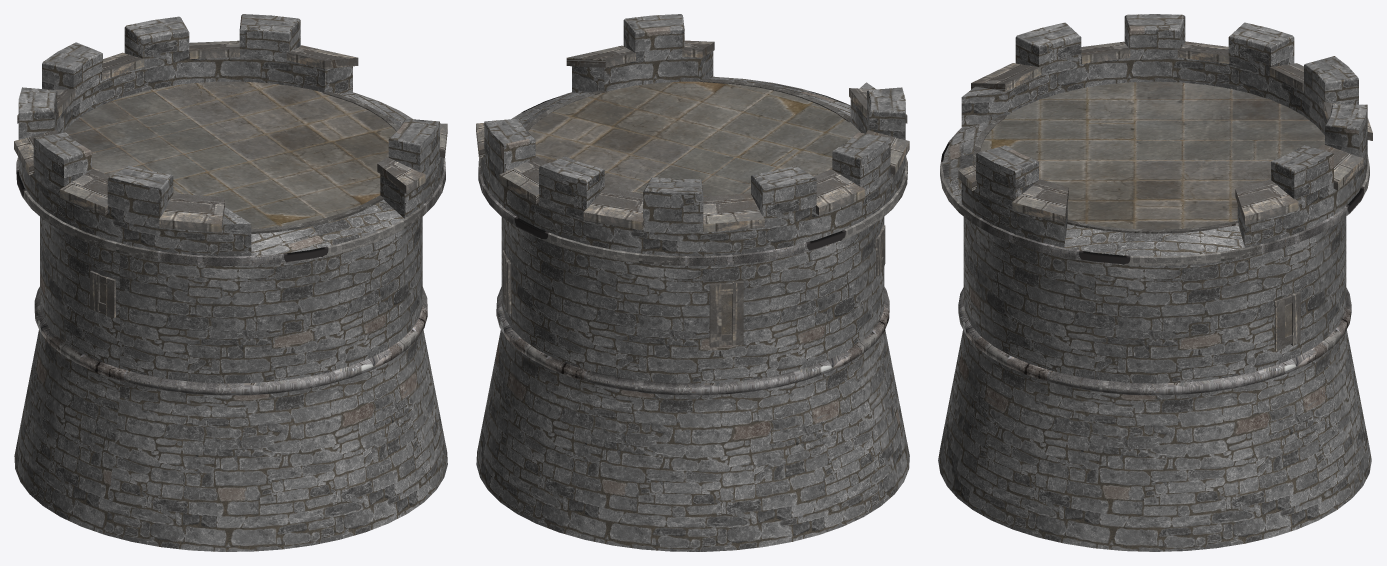
File: MC_Castle_Tower_A_07m.fbx
3 renders of one model, left to right at view 1: azimuth 30°, elevation 25°; view 2: azimuth 150°, elevation 25°; view 3: azimuth 270°, elevation 25°, orthographic.
Visible parts, largest first — view 1: MC_Castle_Tower_A_07m_LOD0; view 2: MC_Castle_Tower_A_07m_LOD0; view 3: MC_Castle_Tower_A_07m_LOD0.
Boxes of the visible parts, x1,y1,x2,y2 form: MC_Castle_Tower_A_07m_LOD0: (14,14,447,551); MC_Castle_Tower_A_07m_LOD0: (476,14,909,551); MC_Castle_Tower_A_07m_LOD0: (938,14,1372,551).
Size of what is drawn, in the model's own units: 906 by 822 by 908.
